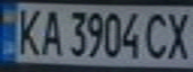0: (103, 9, 124, 60)
3: (63, 7, 87, 57)
4: (121, 9, 145, 60)
9: (84, 8, 106, 59)
A: (36, 6, 66, 56)
C: (142, 9, 172, 61)
K: (9, 4, 45, 56)
X: (163, 8, 193, 61)
